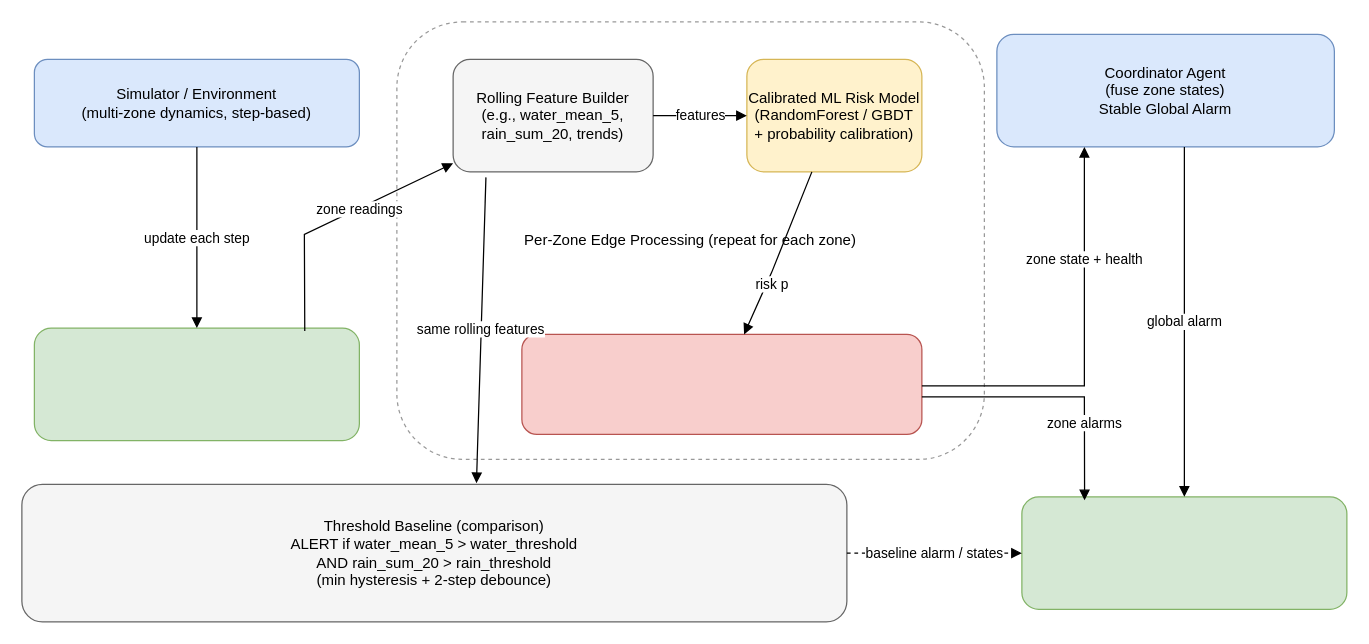
Image size: 1369x644. Some labels were removed from this diagram. The centre of each missing label's shape, as x and y in pixels:
"Guardrails State Machine hysteresis + debouncing consensus gate + health-aware" goes at point 721,383.
"Outputs Global Alarm + Zone States Logs/Traces (Parquet)" goes at point 1184,552.
"Sensor Agents (per zone) water level + rainfall + noise & dropout" goes at point 196,384.
